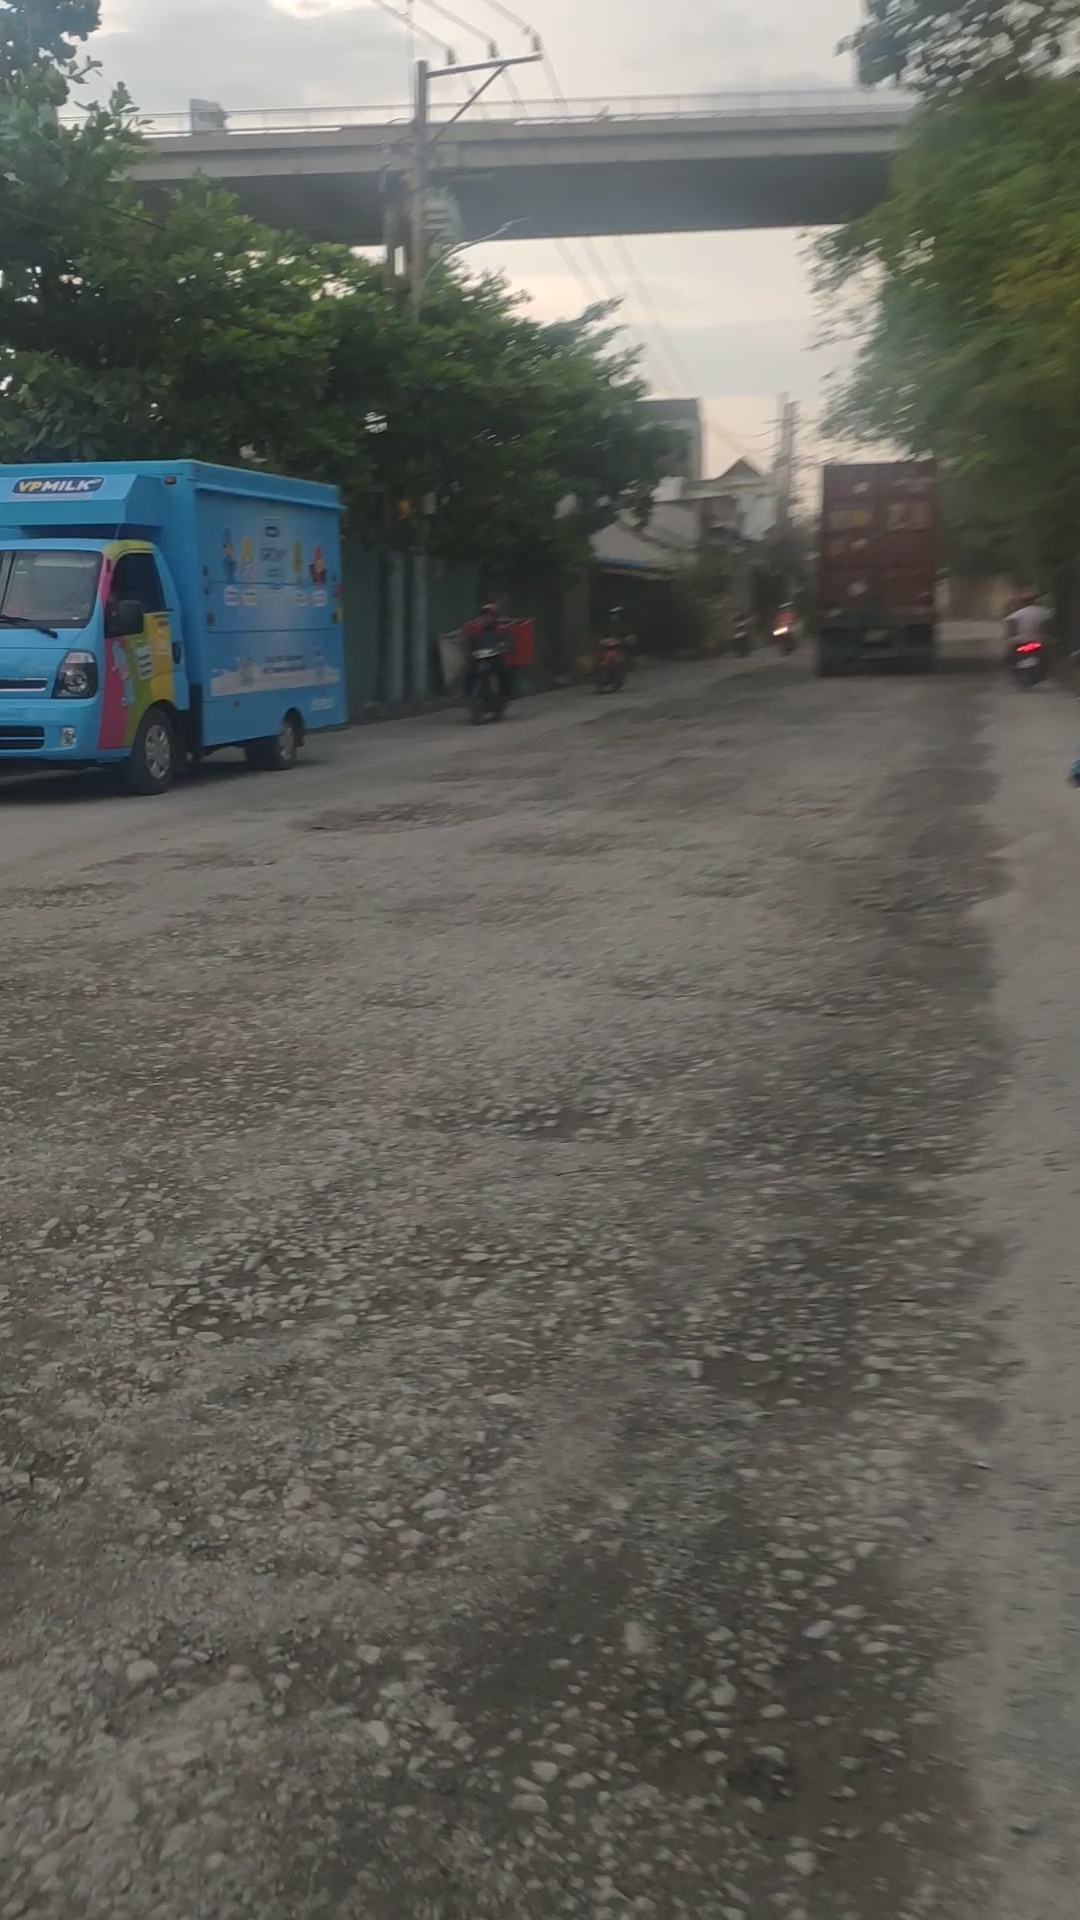hole: (105, 1340, 574, 1597), (400, 1076, 678, 1147), (28, 1193, 178, 1273), (287, 793, 498, 843), (76, 843, 278, 874), (469, 823, 647, 858), (1, 876, 144, 913), (670, 862, 775, 901)
